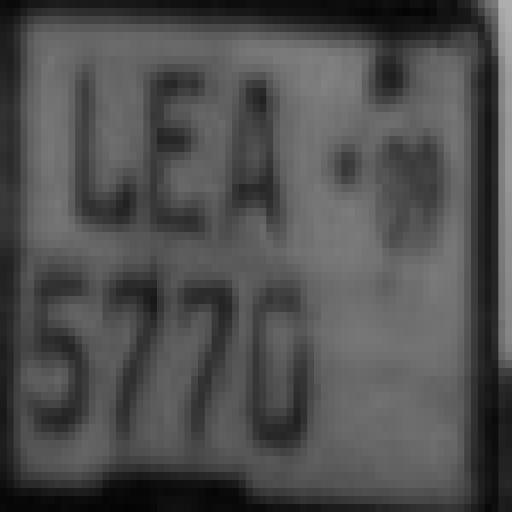0: (254, 272, 321, 444)
5: (24, 262, 89, 442)
7: (176, 267, 240, 442), (99, 264, 161, 436)
A: (224, 56, 287, 238)
E: (146, 48, 214, 238)
L: (77, 51, 134, 236)
